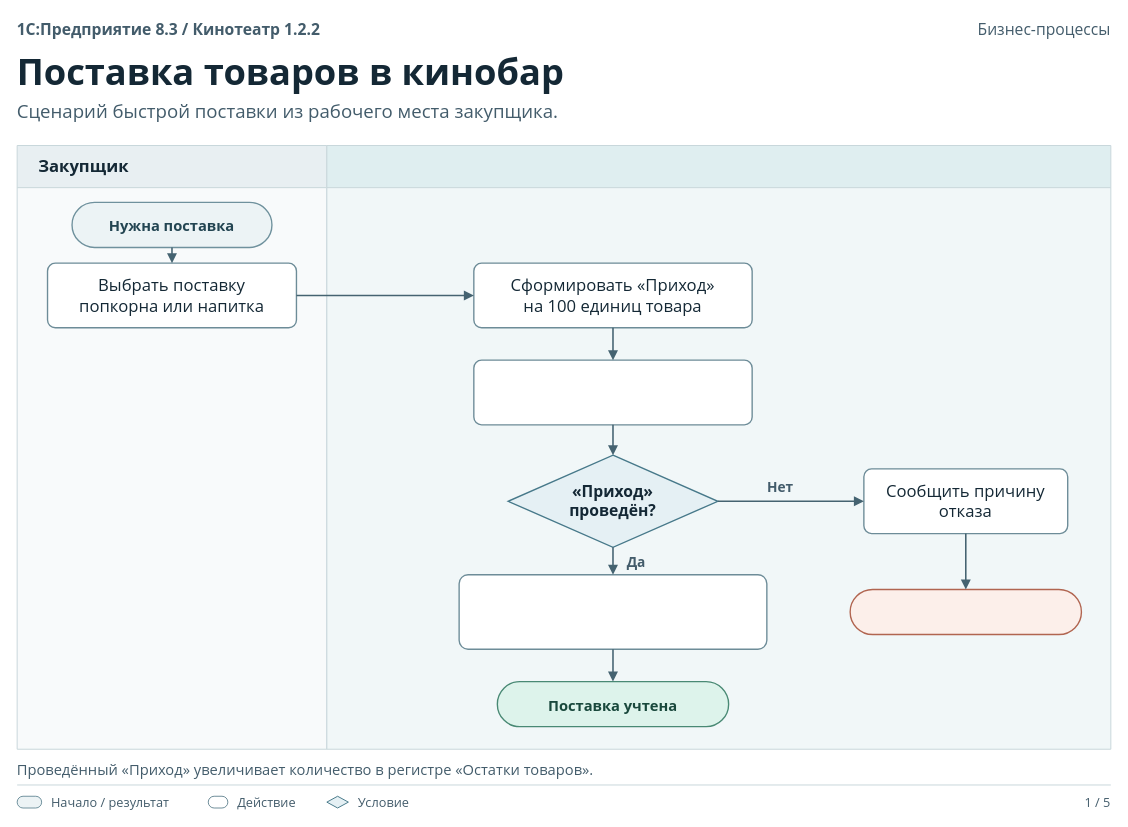
The diagram is 1128 pixels wide and 827 high, and some of its shapes have lost their labels. The box of each missing label's shape, as (x1, y1, x2, y2) in pixels:
Обновить остатки в форме и подтвердить поставку: (458, 574, 767, 649)
Поставка не учтена: (849, 588, 1082, 635)
Проверить реквизиты и провести «Приход»: (473, 359, 752, 425)
Учётная система 1С: (326, 145, 1111, 749)
